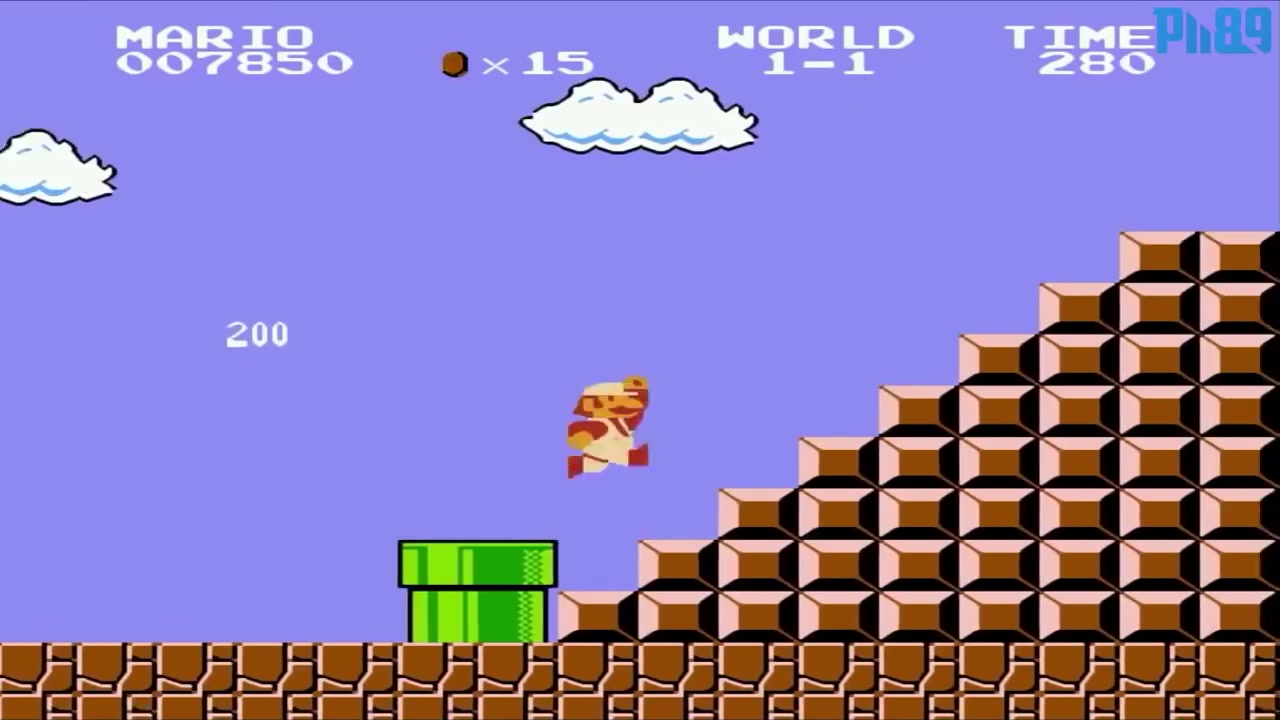mario: (557, 369, 680, 487)
